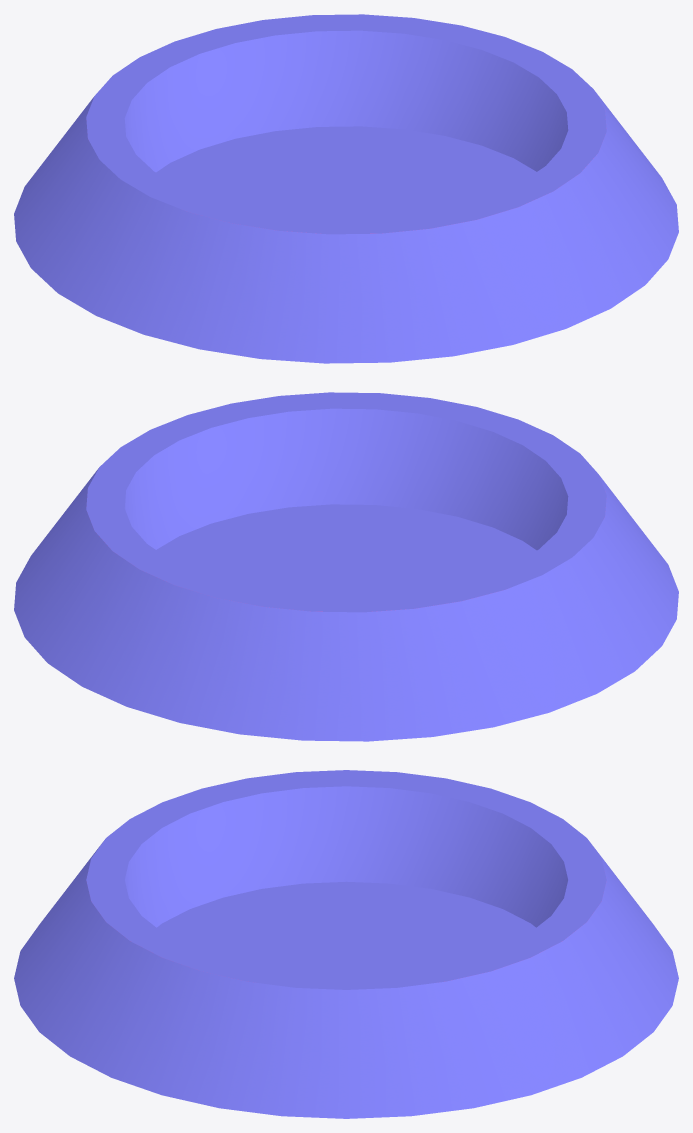
The model's file is miska.fbx.
3 views of the same model, one above another, from view 1: azimuth 30°, elevation 25°; view 2: azimuth 150°, elevation 25°; view 3: azimuth 270°, elevation 25° (orthographic).
Parts seen in each view (by area): view 1: Cylinder; view 2: Cylinder; view 3: Cylinder.
Boxes of the visible parts, x1,y1,x2,y2 form: Cylinder: (14,14,678,363); Cylinder: (14,392,678,741); Cylinder: (14,770,678,1118).
Size of the model in its own units: 199 by 32.57 by 199.
1 material, 1 textured.
